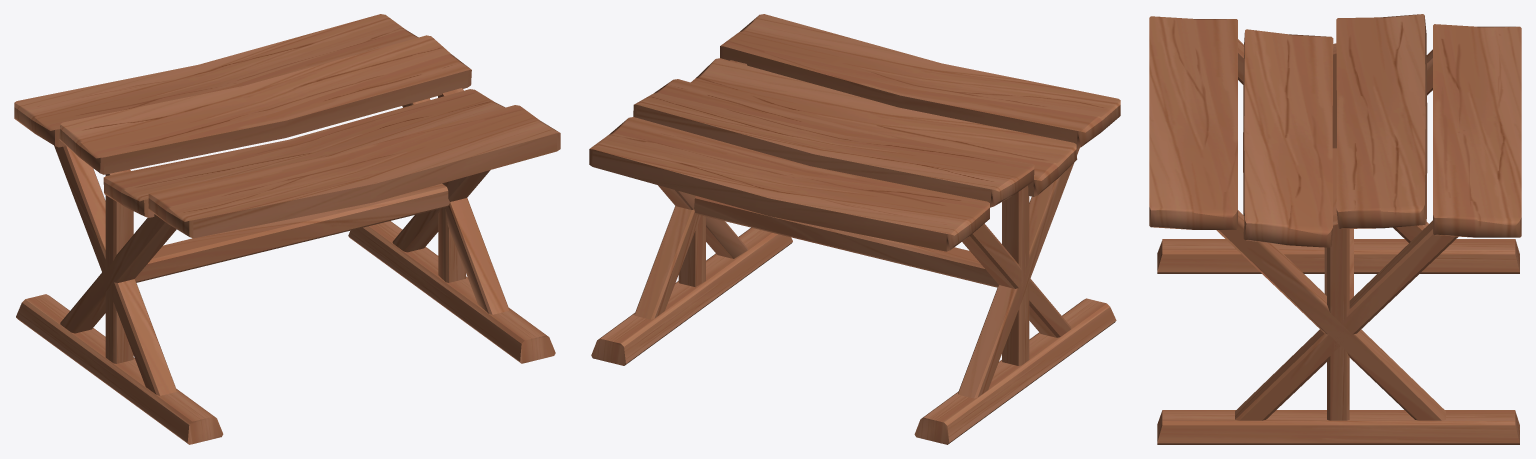
File: table_01.fbx
3 views of the same model, side by side, from view 1: azimuth 30°, elevation 25°; view 2: azimuth 150°, elevation 25°; view 3: azimuth 270°, elevation 25° (orthographic). The views are drawn at different scales.
Visible parts, largest first — view 1: table_01; view 2: table_01; view 3: table_01.
Boxes of the visible parts, x1=… form: table_01: x1=14, y1=14, x2=560, y2=444; table_01: x1=589, y1=14, x2=1120, y2=444; table_01: x1=1149, y1=14, x2=1521, y2=444.
Bounding box in the file's own units: 74.76 × 43.74 × 60.9.
